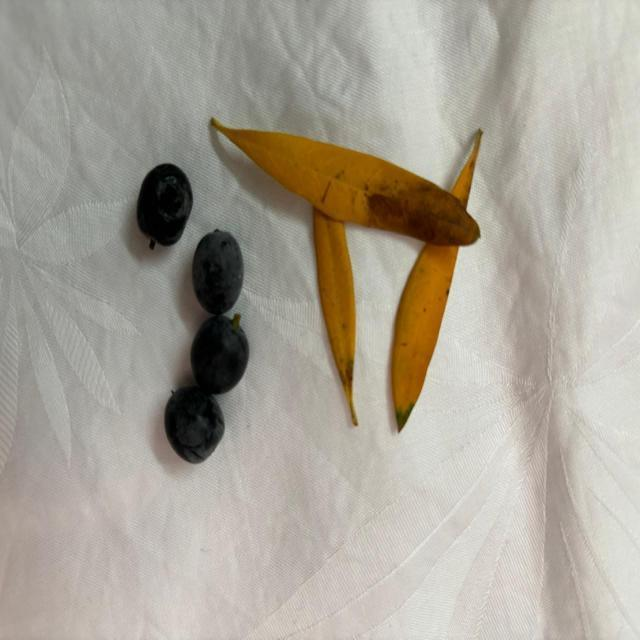OlivePeacockSpot: (210, 120, 480, 248), (390, 244, 458, 432), (313, 208, 357, 426)
